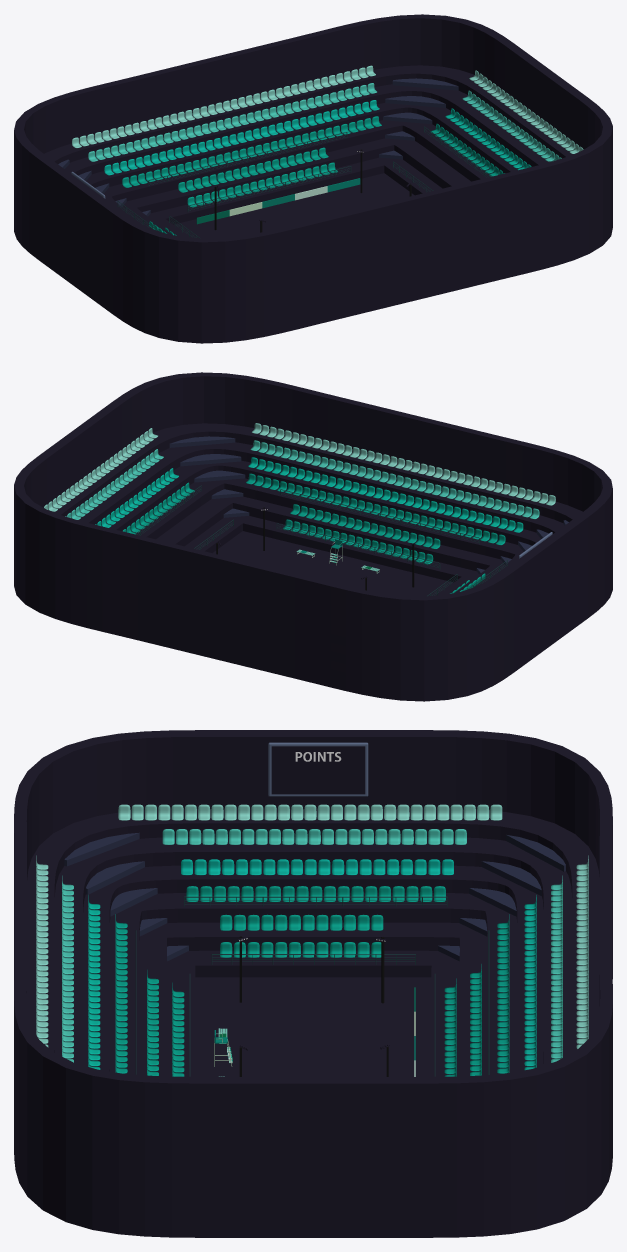
The model's file is stadio45.fbx.
The picture shows the model from 3 angles, top to bottom: view 1: azimuth 30°, elevation 25°; view 2: azimuth 150°, elevation 25°; view 3: azimuth 270°, elevation 25°; orthographic projection. The views are drawn at different scales.
Parts seen in each view (by area): view 1: cancha.001, piso.001, silla7, silla8, silla9, silla10, silla22.003, silla22.004, silla13, silla14, deco, silla15 (+5 smaller); view 2: cancha.001, piso.001, silla19, silla20, silla21, silla22, silla22.001, silla22.002, silla13, silla14, silla15, barra7 (+4 smaller); view 3: cancha.001, piso.001, silla1, marcador, silla2, silla3, silla4, silla22.006, silla7, silla19, silla22.005, silla8 (+17 smaller).
Part boxes in pixels (box(x1,y1,x2,y2)): cancha.001: box(14, 14, 612, 343); piso.001: box(174, 173, 414, 238); silla7: box(72, 65, 375, 148); silla8: box(88, 83, 376, 161); silla9: box(104, 100, 379, 175); silla10: box(122, 116, 381, 187); silla22.003: box(178, 147, 328, 192); silla22.004: box(187, 162, 337, 207); silla13: box(469, 70, 583, 153); silla14: box(462, 90, 561, 161); deco: box(196, 178, 360, 224); silla15: box(445, 108, 531, 170); cancha.001: box(14, 372, 612, 701); piso.001: box(213, 531, 453, 596); silla19: box(252, 423, 555, 505); silla20: box(250, 440, 539, 519); silla21: box(248, 457, 523, 532); silla22: box(246, 473, 505, 545); silla22.001: box(290, 504, 440, 549); silla22.002: box(283, 519, 433, 564); silla13: box(44, 428, 157, 511); silla14: box(65, 449, 163, 519); silla15: box(95, 468, 178, 527); barra7: box(280, 489, 479, 543); cancha.001: box(14, 730, 612, 1237); piso.001: box(195, 977, 431, 1076); silla1: box(118, 804, 502, 820); marcador: box(268, 742, 368, 796); silla2: box(162, 829, 466, 844); silla3: box(181, 859, 453, 875); silla4: box(186, 886, 445, 901); silla22.006: box(220, 914, 383, 930); silla7: box(576, 855, 588, 1048); silla19: box(36, 855, 48, 1047); silla22.005: box(220, 942, 381, 957); silla8: box(551, 875, 562, 1062).
Bounding box in the file's own units: 16839 × 3481 × 12058.
Materials: 41 (41 with a texture image).
